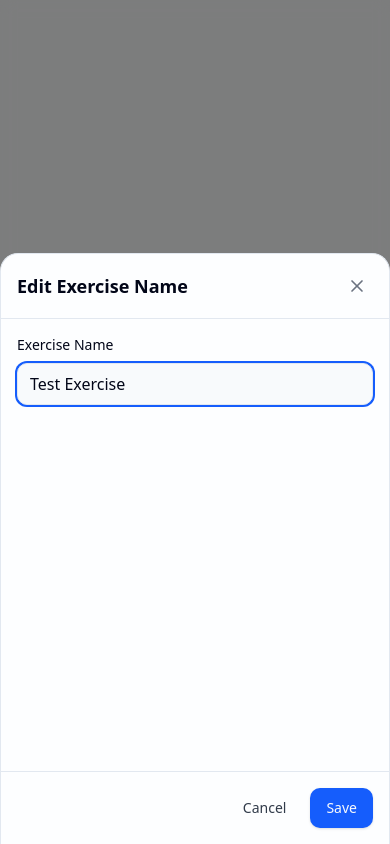
Test: EditCustomExerciseModal › disables save button when name is empty
The width and height of the screenshot is (390, 844).
Clear the field showing "Test Exercise": (195, 384) top-left (17, 363), bottom-right (373, 405)
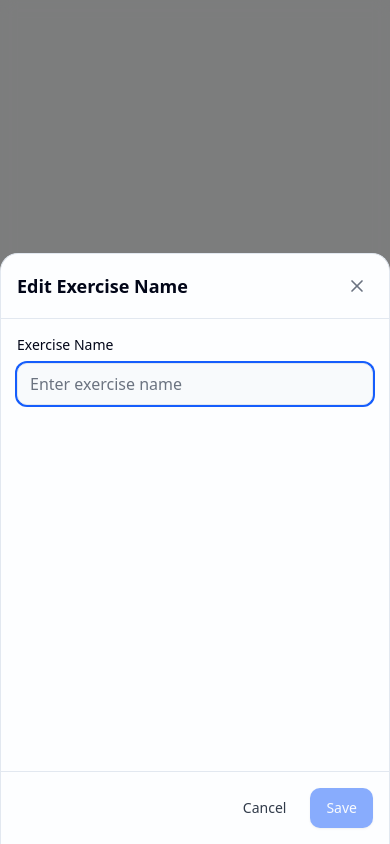
Check: the button "Save" is disabled, box top-left (310, 788), bottom-right (373, 828)
